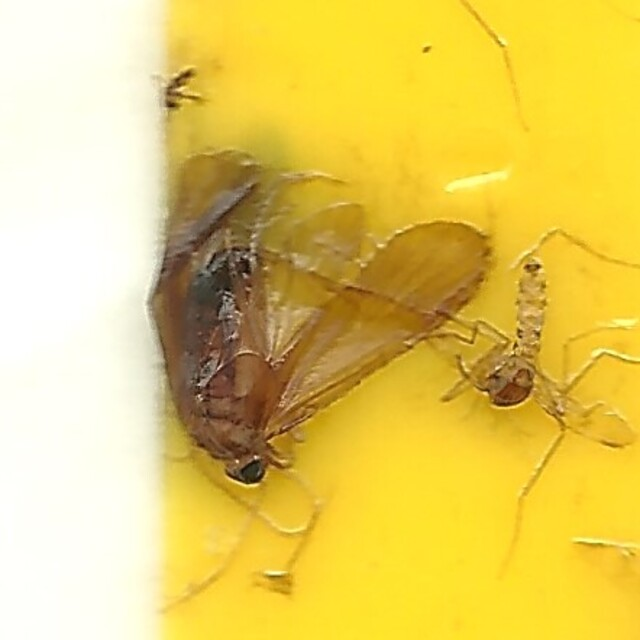Trichoptera: (145, 143, 495, 497)
